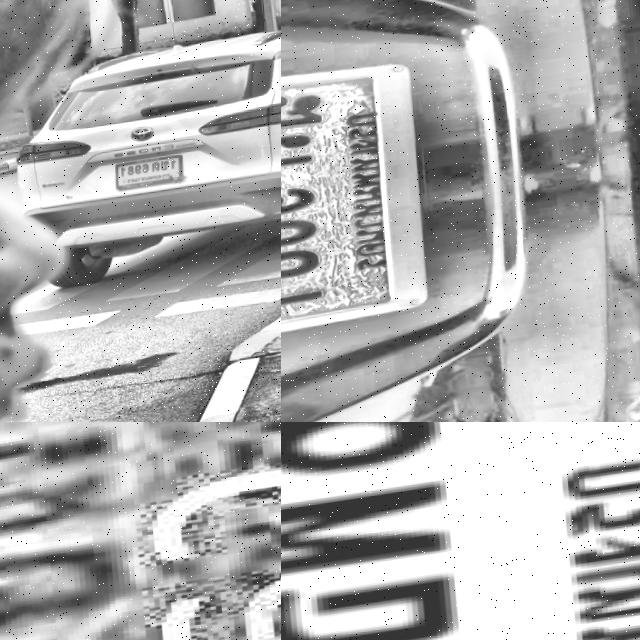license-plate: (281, 422, 640, 640), (0, 422, 281, 640), (281, 52, 435, 356), (192, 215, 243, 279)
